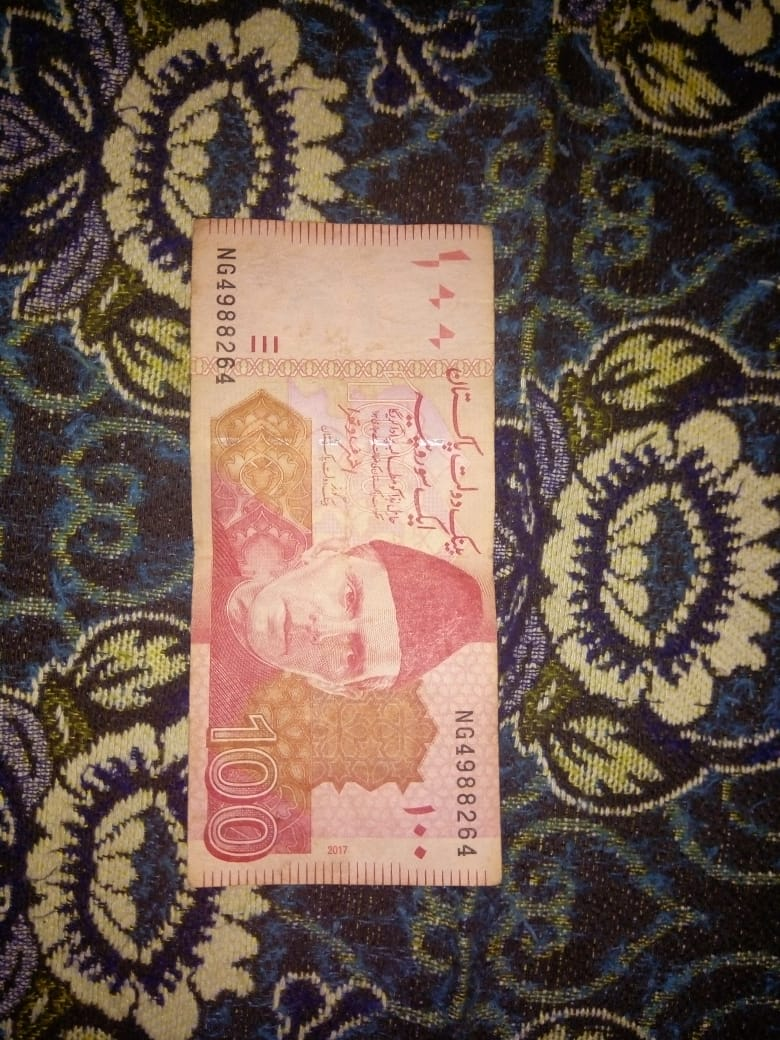100 rupee: (138, 162, 514, 936)
